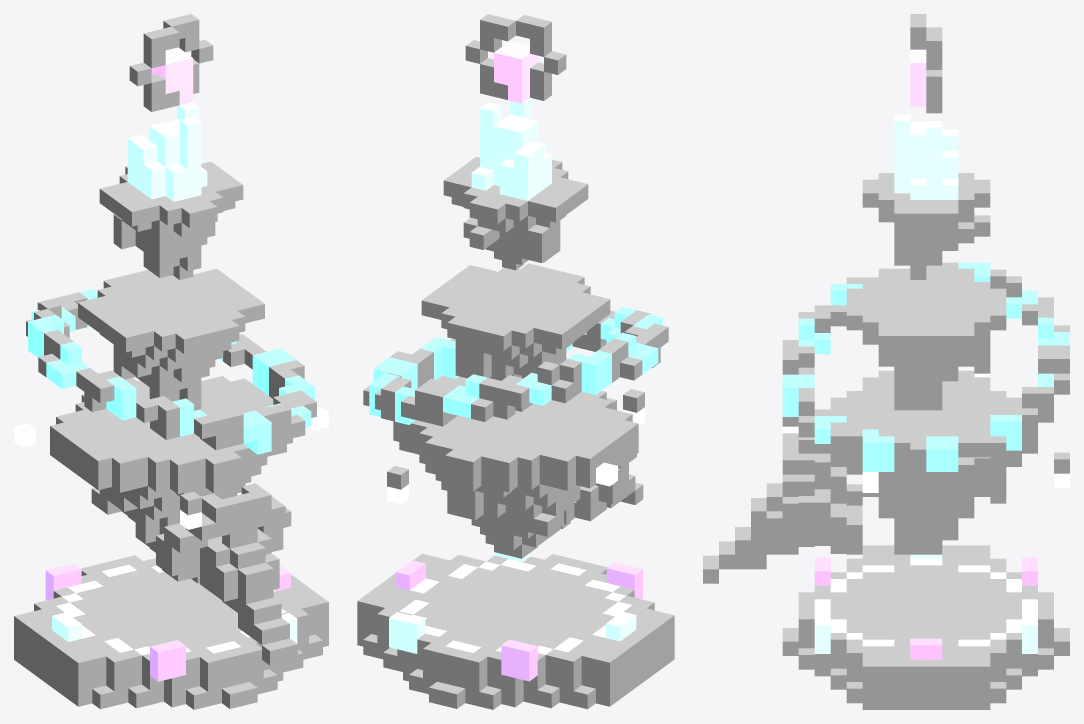
The model's file is IceDrill_A_T4.fbx.
The picture shows the model from 3 angles, left to right: view 1: azimuth 30°, elevation 25°; view 2: azimuth 150°, elevation 25°; view 3: azimuth 270°, elevation 25°; orthographic projection.
Visible parts, largest first — view 1: IceDrillT4Moonstone, IceDrillT4FrostLight, IceDrillT4StoneDark, IceDrillT4ArcaneDeep, IceDrillT4Gold, IceDrillT4AuroraGreenGlow, IceDrillT4CrystalCyanGlow, IceDrillT4RuneViolet, IceDrillT4RuneGlowGlow, IceDrillT4RuneVioletGlow, IceDrillT4MagicPinkGlow; view 2: IceDrillT4Moonstone, IceDrillT4FrostLight, IceDrillT4StoneDark, IceDrillT4Gold, IceDrillT4ArcaneDeep, IceDrillT4CrystalCyanGlow, IceDrillT4AuroraGreenGlow, IceDrillT4RuneGlowGlow, IceDrillT4RuneVioletGlow, IceDrillT4MagicPinkGlow; view 3: IceDrillT4Moonstone, IceDrillT4StoneDark, IceDrillT4FrostLight, IceDrillT4ArcaneDeep, IceDrillT4AuroraGreenGlow, IceDrillT4Gold, IceDrillT4CrystalCyanGlow, IceDrillT4RuneGlowGlow, IceDrillT4RuneViolet, IceDrillT4RuneVioletGlow, IceDrillT4MagicPinkGlow.
Part boxes in pixels (x1,y1,x2,y2): IceDrillT4Moonstone: [14, 172, 328, 692]; IceDrillT4FrostLight: [50, 161, 273, 479]; IceDrillT4StoneDark: [14, 219, 328, 709]; IceDrillT4ArcaneDeep: [26, 292, 316, 665]; IceDrillT4Gold: [91, 14, 235, 551]; IceDrillT4AuroraGreenGlow: [28, 289, 314, 454]; IceDrillT4CrystalCyanGlow: [52, 102, 297, 643]; IceDrillT4RuneViolet: [200, 527, 289, 644]; IceDrillT4RuneGlowGlow: [14, 407, 328, 655]; IceDrillT4RuneVioletGlow: [45, 563, 290, 681]; IceDrillT4MagicPinkGlow: [151, 47, 193, 104]; IceDrillT4Moonstone: [357, 167, 674, 692]; IceDrillT4FrostLight: [393, 157, 638, 477]; IceDrillT4StoneDark: [357, 215, 674, 709]; IceDrillT4Gold: [447, 14, 574, 536]; IceDrillT4ArcaneDeep: [363, 310, 668, 508]; IceDrillT4CrystalCyanGlow: [389, 97, 636, 653]; IceDrillT4AuroraGreenGlow: [369, 307, 662, 424]; IceDrillT4RuneGlowGlow: [387, 407, 644, 654]; IceDrillT4RuneVioletGlow: [395, 560, 642, 681]; IceDrillT4MagicPinkGlow: [494, 41, 537, 103]; IceDrillT4Moonstone: [735, 179, 1053, 695]; IceDrillT4StoneDark: [782, 214, 1069, 709]; IceDrillT4FrostLight: [830, 173, 1037, 479]; IceDrillT4ArcaneDeep: [703, 262, 1069, 583]; IceDrillT4AuroraGreenGlow: [782, 262, 1069, 471]; IceDrillT4Gold: [894, 14, 1006, 554]; IceDrillT4CrystalCyanGlow: [814, 114, 1037, 653]; IceDrillT4RuneGlowGlow: [782, 373, 1069, 646]; IceDrillT4RuneViolet: [719, 496, 814, 569]; IceDrillT4RuneVioletGlow: [814, 557, 1037, 659]; IceDrillT4MagicPinkGlow: [910, 49, 926, 106].
Size of the model in its own units: 225 by 538 by 288.
